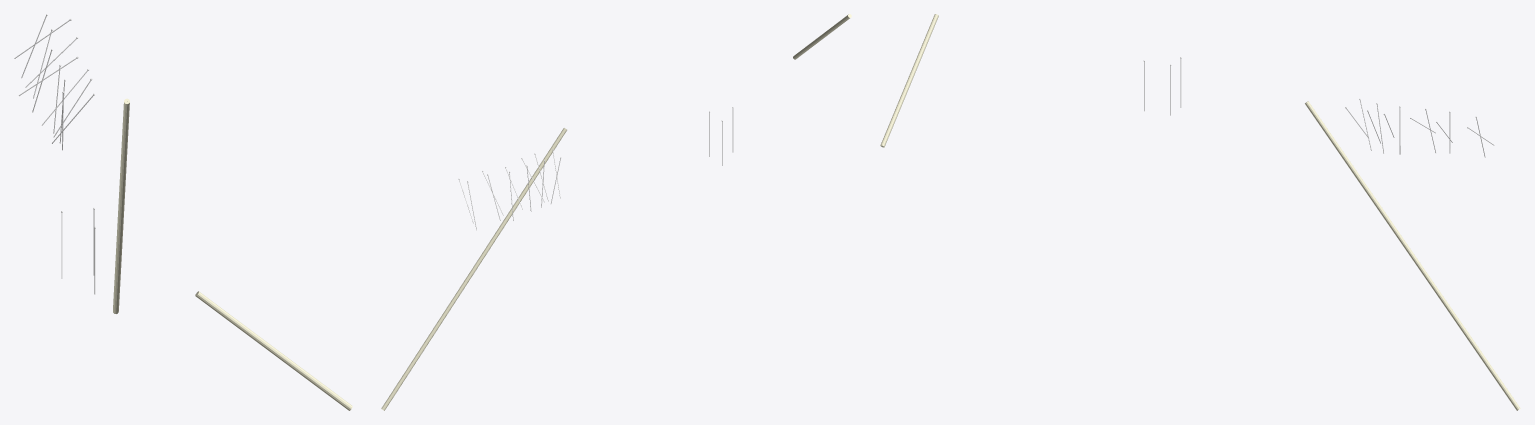
The model's file is tile_165.glb.
3 views of the same model, side by side, from view 1: azimuth 30°, elevation 25°; view 2: azimuth 150°, elevation 25°; view 3: azimuth 270°, elevation 25° (orthographic). The views are drawn at different scales.
Size of the model in its own units: 14.56 by 17.03 by 34.64.
